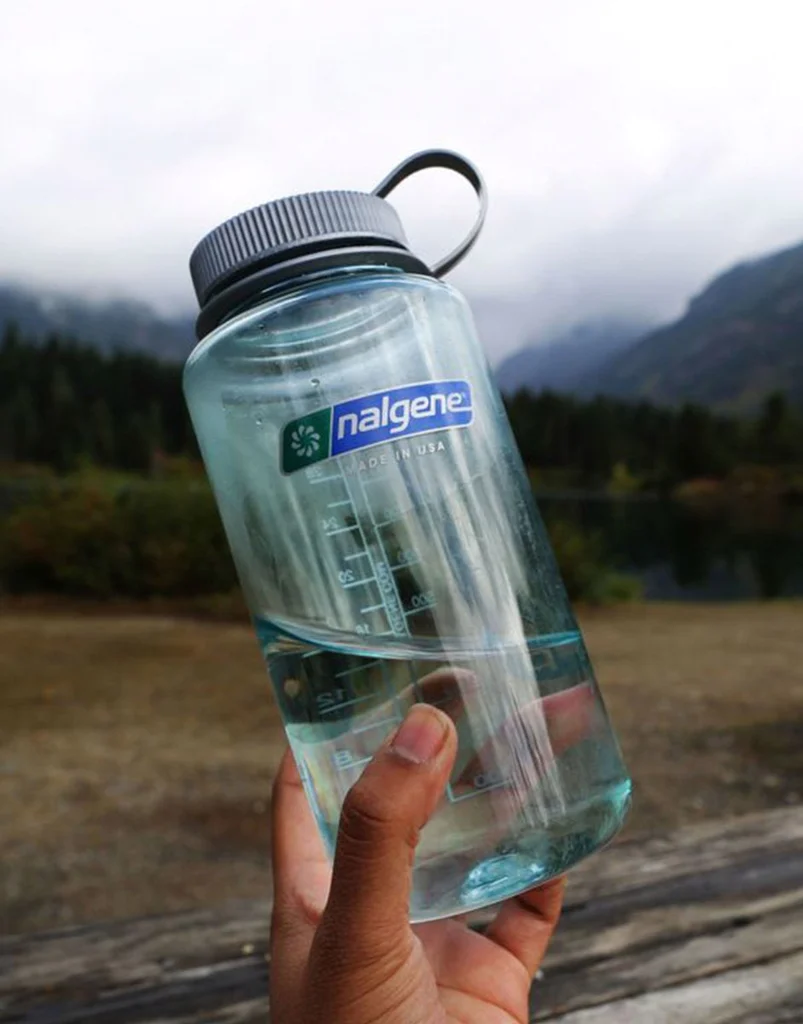bottle: (174, 144, 636, 926)
